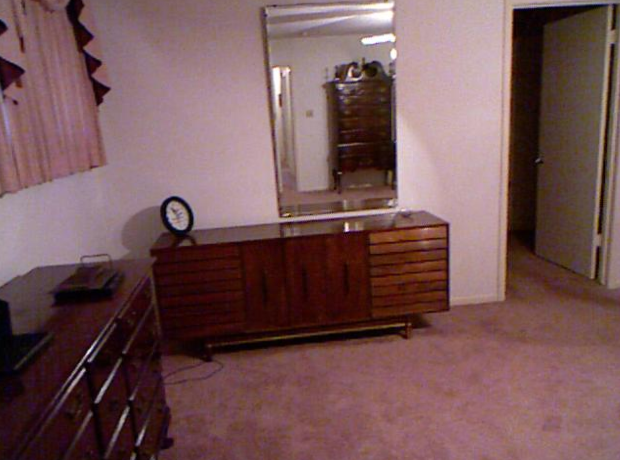cabinet: (161, 213, 450, 342), (0, 255, 159, 460)
cabinetDoor: (326, 240, 367, 322), (244, 244, 284, 326), (287, 242, 321, 324)
door: (539, 26, 595, 272)
openedDoor: (504, 3, 611, 291)
